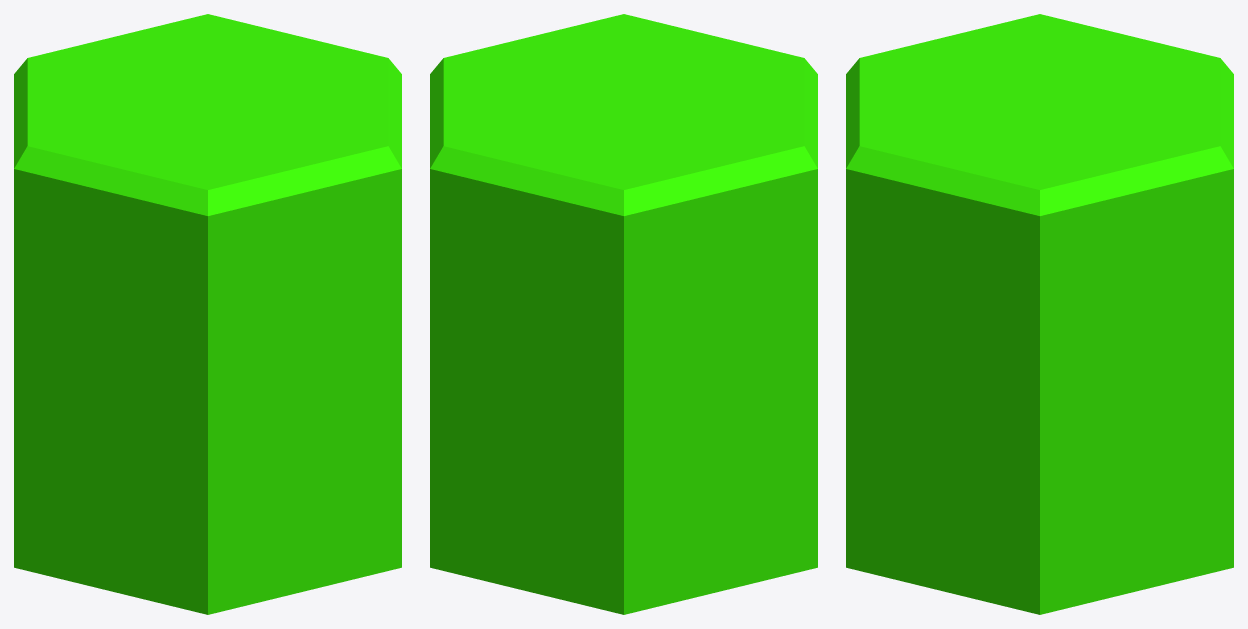
Rendered from StaticObstacle_Large.fbx.
3 renders of one model, left to right at view 1: azimuth 30°, elevation 25°; view 2: azimuth 150°, elevation 25°; view 3: azimuth 270°, elevation 25°, orthographic.
Visible parts, largest first — view 1: StaticObstacle_Large; view 2: StaticObstacle_Large; view 3: StaticObstacle_Large.
Part boxes in pixels (x1=…): StaticObstacle_Large: x1=14, y1=14, x2=401, y2=614; StaticObstacle_Large: x1=430, y1=14, x2=817, y2=614; StaticObstacle_Large: x1=846, y1=14, x2=1233, y2=614.
Size of the model in its own units: 2 by 2.06 by 1.73.
